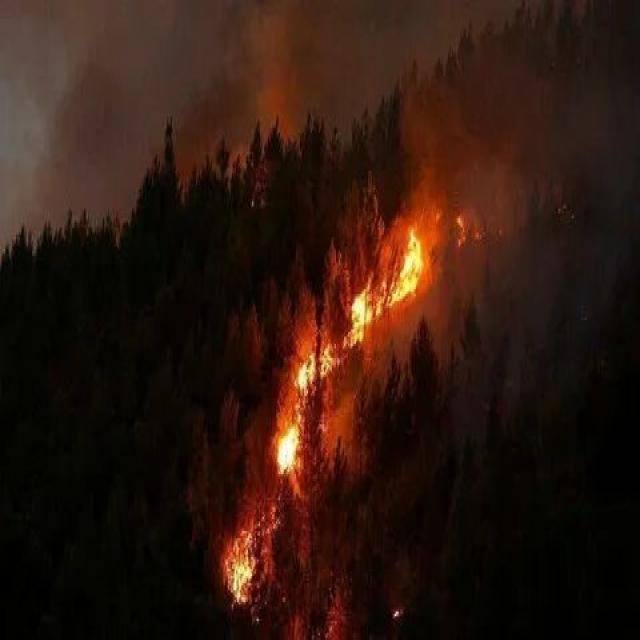Fire: (210, 187, 498, 640)
Smoke: (0, 7, 640, 178)
